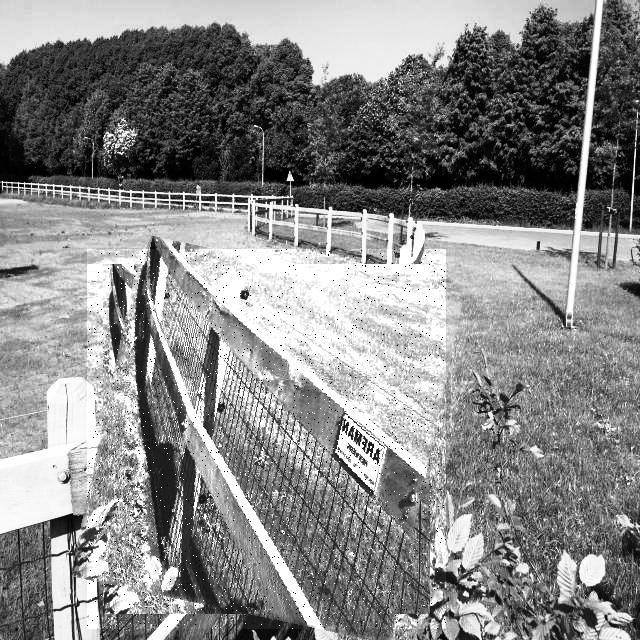fences: (87, 249, 446, 629)
